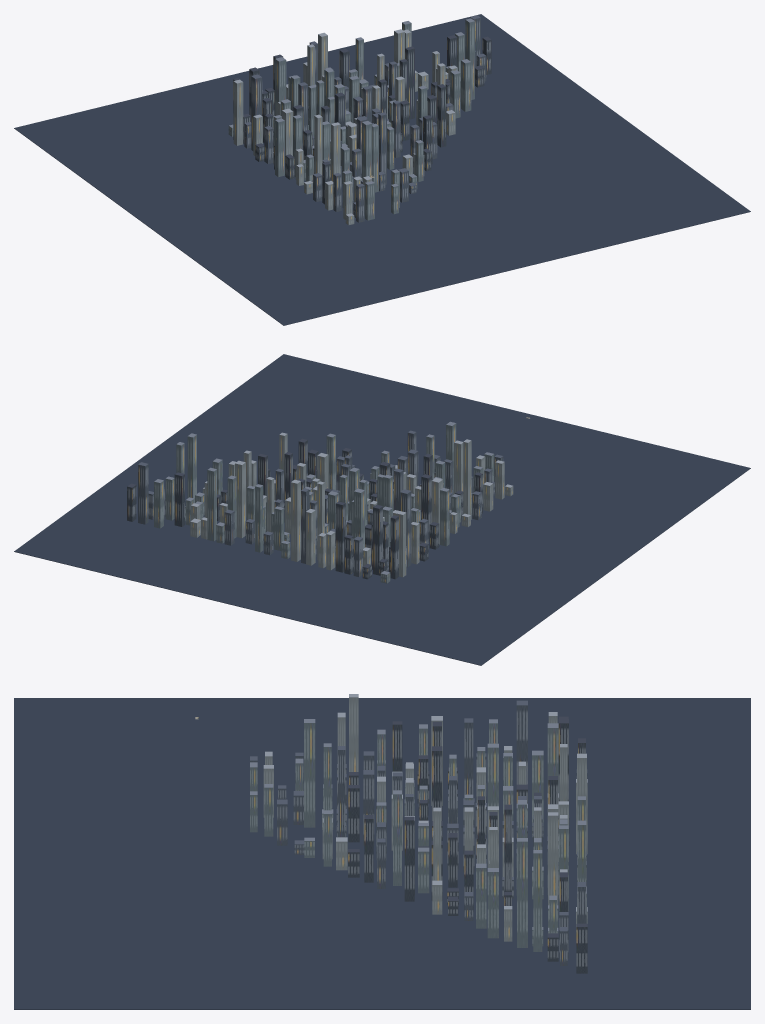
Rendered from desk-room.glb.
3 renders of one model, top to bottom at view 1: azimuth 30°, elevation 25°; view 2: azimuth 150°, elevation 25°; view 3: azimuth 270°, elevation 25°, orthographic. The views are drawn at different scales.
Visible parts, largest first — view 1: ground, tower235, tower89, tower18, tower195, tower102, tower214, tower175, tower240, tower30, tower37, tower192; view 2: ground, tower280, tower247, tower275, tower286, tower37, tower290, tower256, tower214, tower283, tower268, tower102 (+6 smaller); view 3: ground, tower18, tower214, tower234, tower248, tower89, tower75, tower195, tower175, tower37, tower135, tower169 (+19 smaller).
Boxes of the visible parts, bbox=[...] form: ground: bbox=[14, 14, 750, 325]; tower235: bbox=[233, 79, 243, 145]; tower89: bbox=[437, 84, 446, 147]; tower18: bbox=[362, 121, 372, 180]; tower195: bbox=[251, 74, 262, 150]; tower102: bbox=[275, 118, 284, 176]; tower214: bbox=[465, 18, 474, 99]; tower175: bbox=[461, 59, 471, 111]; tower240: bbox=[275, 57, 286, 115]; tower30: bbox=[331, 122, 340, 181]; tower37: bbox=[314, 114, 322, 174]; tower192: bbox=[405, 46, 414, 119]; ground: bbox=[14, 354, 750, 665]; tower280: bbox=[291, 479, 300, 561]; tower247: bbox=[235, 460, 245, 538]; tower275: bbox=[335, 501, 345, 572]; tower286: bbox=[207, 467, 216, 541]; tower37: bbox=[463, 439, 471, 519]; tower290: bbox=[138, 462, 148, 524]; tower256: bbox=[373, 504, 382, 575]; tower214: bbox=[187, 433, 196, 503]; tower283: bbox=[255, 484, 263, 552]; tower268: bbox=[174, 472, 184, 526]; tower102: bbox=[440, 487, 449, 546]; ground: bbox=[14, 698, 750, 1009]; tower18: bbox=[304, 719, 315, 827]; tower214: bbox=[517, 838, 527, 947]; tower234: bbox=[533, 850, 542, 951]; tower248: bbox=[548, 812, 558, 905]; tower89: bbox=[404, 816, 414, 901]; tower75: bbox=[393, 790, 401, 885]; tower195: bbox=[516, 700, 527, 784]; tower175: bbox=[487, 868, 498, 938]; tower37: bbox=[349, 694, 358, 771]; tower135: bbox=[464, 718, 473, 797]; tower169: bbox=[487, 743, 498, 806].
Size of the model in its own units: 1200 by 195 by 1200.
Materials: 92 (26 with a texture image).
